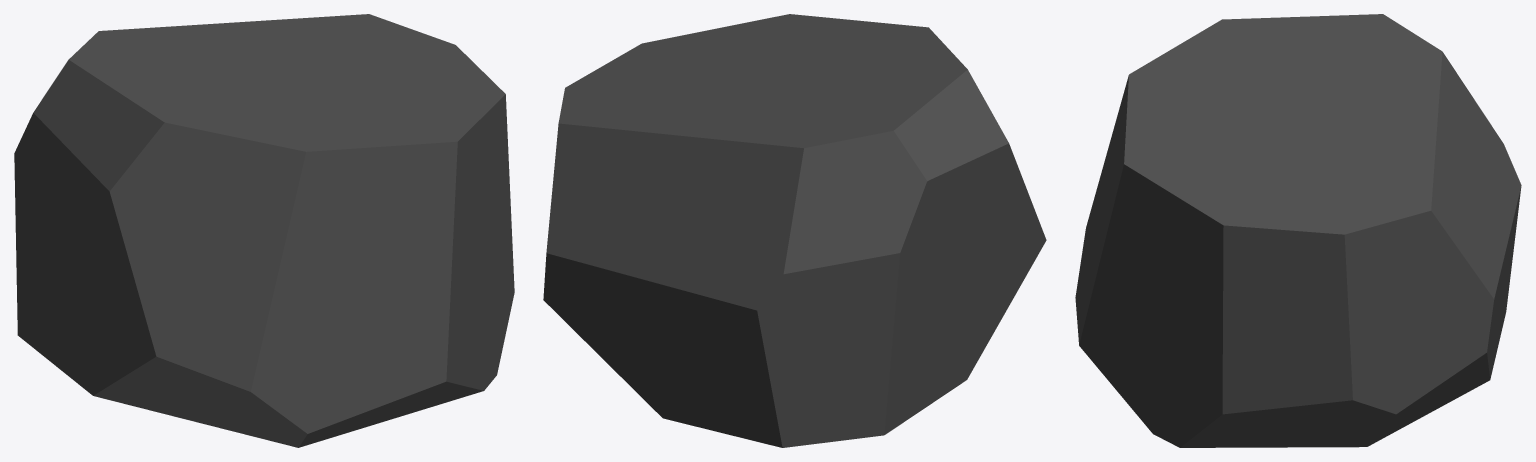
The model's file is StoneBig6.fbx.
3 renders of one model, left to right at view 1: azimuth 30°, elevation 25°; view 2: azimuth 150°, elevation 25°; view 3: azimuth 270°, elevation 25°, orthographic. The views are drawn at different scales.
Parts seen in each view (by area): view 1: stoneBig6; view 2: stoneBig6; view 3: stoneBig6.
Boxes of the visible parts, x1,y1,x2,y2 form: stoneBig6: (14,14,514,447); stoneBig6: (543,14,1046,447); stoneBig6: (1075,14,1521,447).
Size of the model in its own units: 330 by 238 by 332.
Materials: 1 (1 with a texture image).
